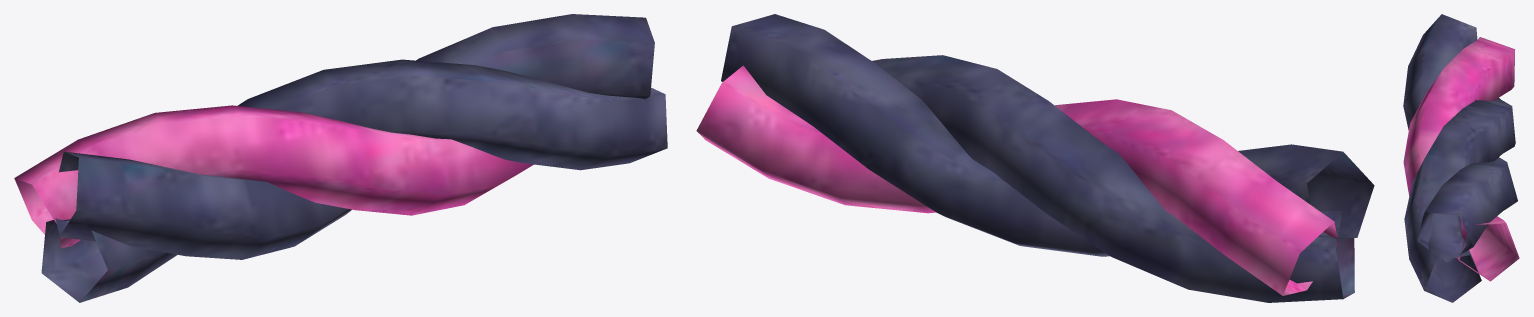
Rendered from rope_link.glb.
The picture shows the model from 3 angles, left to right: view 1: azimuth 30°, elevation 25°; view 2: azimuth 150°, elevation 25°; view 3: azimuth 270°, elevation 25°; orthographic projection. The views are drawn at different scales.
Parts seen in each view (by area): view 1: rope; view 2: rope; view 3: rope.
Boxes of the visible parts, bbox=[...] form: rope: bbox=[14, 14, 667, 302]; rope: bbox=[696, 14, 1374, 302]; rope: bbox=[1403, 14, 1519, 302].
Bounding box in the file's own units: 1.11 × 0.267 × 0.2714.
Materials: 1 (1 with a texture image).
